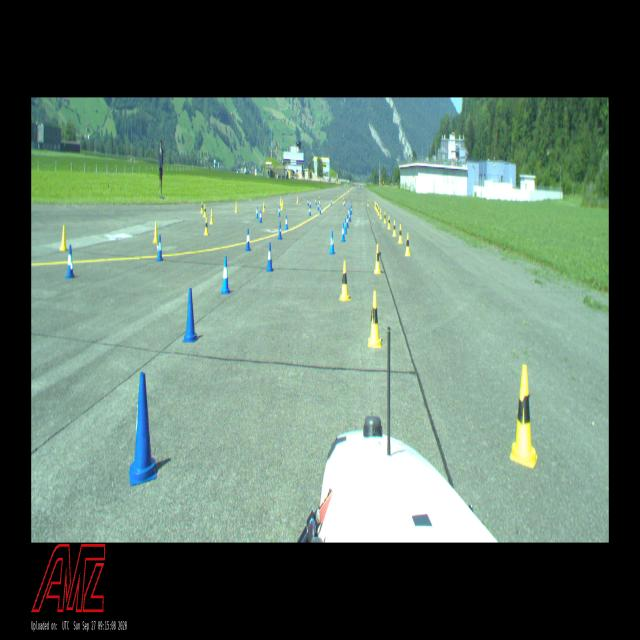blue_cone: (129, 372, 157, 486), (182, 287, 198, 343), (220, 256, 231, 294), (65, 244, 75, 278), (266, 242, 274, 272), (157, 234, 163, 262), (329, 231, 335, 255), (245, 229, 251, 251), (341, 223, 345, 242), (278, 222, 282, 240), (285, 214, 288, 230), (344, 219, 347, 235), (259, 210, 262, 223), (346, 214, 348, 228), (319, 205, 322, 214), (309, 203, 311, 216), (256, 206, 258, 219), (349, 209, 351, 222), (350, 202, 352, 214), (344, 197, 346, 209), (318, 200, 320, 211), (278, 206, 280, 217), (307, 197, 309, 206), (315, 197, 317, 206), (330, 198, 332, 207), (310, 198, 311, 208)
yellow_cone: (510, 363, 538, 470), (368, 291, 382, 348), (339, 261, 351, 300), (374, 243, 381, 275), (60, 226, 67, 251), (152, 220, 158, 243), (405, 233, 410, 257), (398, 224, 403, 244), (204, 216, 208, 235), (392, 220, 396, 236), (200, 199, 204, 215), (387, 215, 391, 230), (210, 208, 213, 224), (203, 203, 206, 218), (235, 201, 238, 213), (384, 211, 386, 224), (380, 208, 382, 219), (342, 196, 344, 207), (281, 201, 283, 212), (280, 196, 282, 207), (263, 202, 265, 212), (282, 198, 284, 208), (378, 207, 380, 216), (318, 196, 320, 205), (367, 199, 369, 207), (376, 204, 378, 212), (296, 196, 298, 204), (376, 202, 377, 211)
